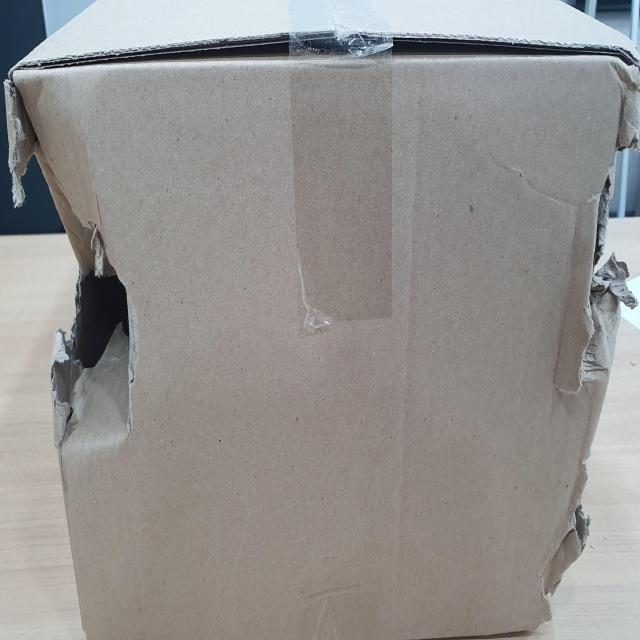damaged: (46, 158, 142, 436)
